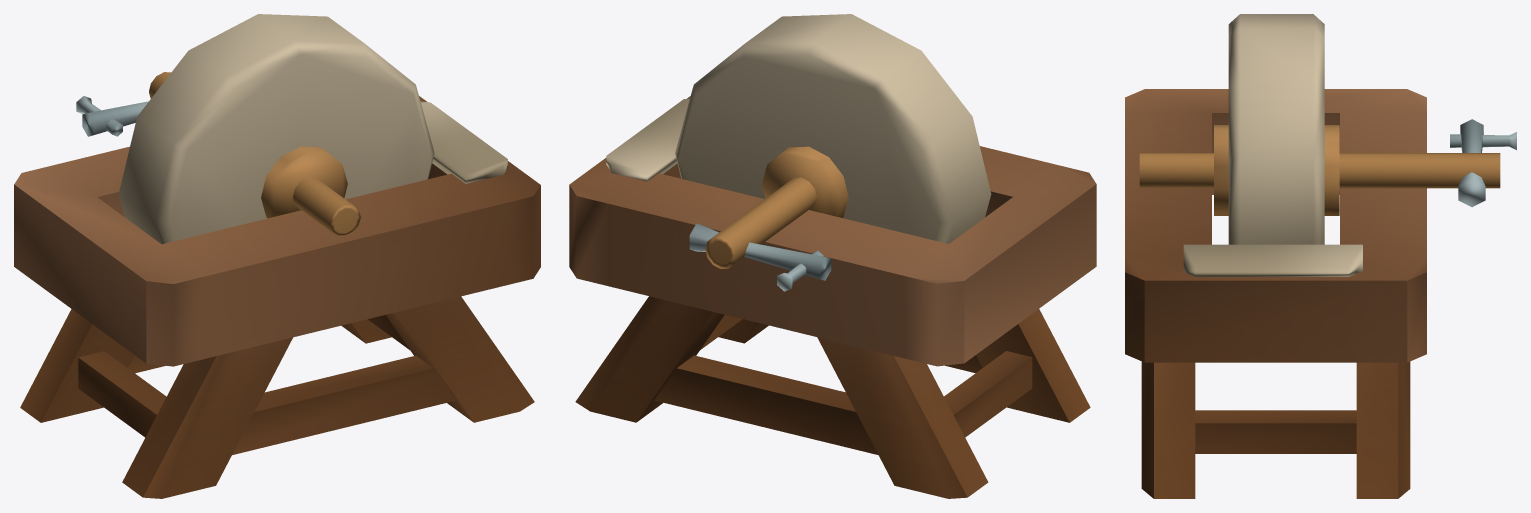
Rendered from Grindstone.fbx.
The picture shows the model from 3 angles, left to right: view 1: azimuth 30°, elevation 25°; view 2: azimuth 150°, elevation 25°; view 3: azimuth 270°, elevation 25°; orthographic projection.
Parts seen in each view (by area): view 1: Grindstone_Bench, Grindstone_Wheel, Grindstone_Centre, Grindstone_Toolrest, Grindstone_Handle; view 2: Grindstone_Bench, Grindstone_Wheel, Grindstone_Centre, Grindstone_Toolrest, Grindstone_Handle; view 3: Grindstone_Bench, Grindstone_Wheel, Grindstone_Centre, Grindstone_Toolrest, Grindstone_Handle.
Part boxes in pixels (left/top/right/bottom): Grindstone_Bench: left=14, top=96, right=540, bottom=498; Grindstone_Wheel: left=118, top=14, right=434, bottom=244; Grindstone_Centre: left=149, top=72, right=360, bottom=236; Grindstone_Toolrest: left=420, top=101, right=507, bottom=183; Grindstone_Handle: left=76, top=96, right=148, bottom=136; Grindstone_Bench: left=569, top=96, right=1096, bottom=498; Grindstone_Wheel: left=675, top=14, right=991, bottom=243; Grindstone_Centre: left=705, top=146, right=848, bottom=268; Grindstone_Toolrest: left=606, top=98, right=689, bottom=181; Grindstone_Handle: left=689, top=223, right=831, bottom=291; Grindstone_Bench: left=1125, top=89, right=1426, bottom=498; Grindstone_Wheel: left=1228, top=14, right=1324, bottom=244; Grindstone_Centre: left=1139, top=125, right=1500, bottom=215; Grindstone_Toolrest: left=1183, top=244, right=1362, bottom=276; Grindstone_Handle: left=1450, top=119, right=1516, bottom=207.
Size of the model in its own units: 1.5 by 1.37 by 1.3.
Materials: 1 (1 with a texture image).
